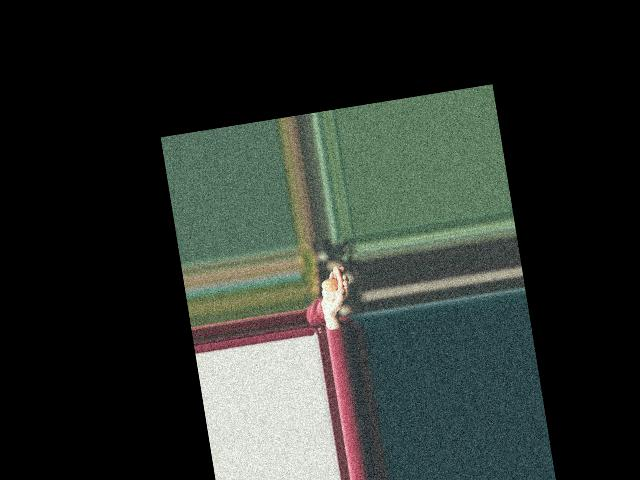egg: (321, 278, 338, 292)
